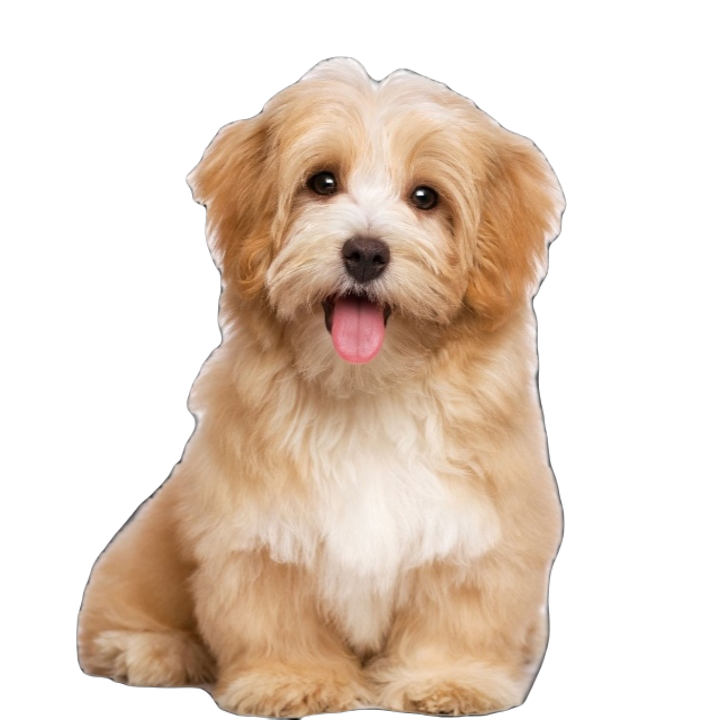Dog: (74, 52, 564, 708)
